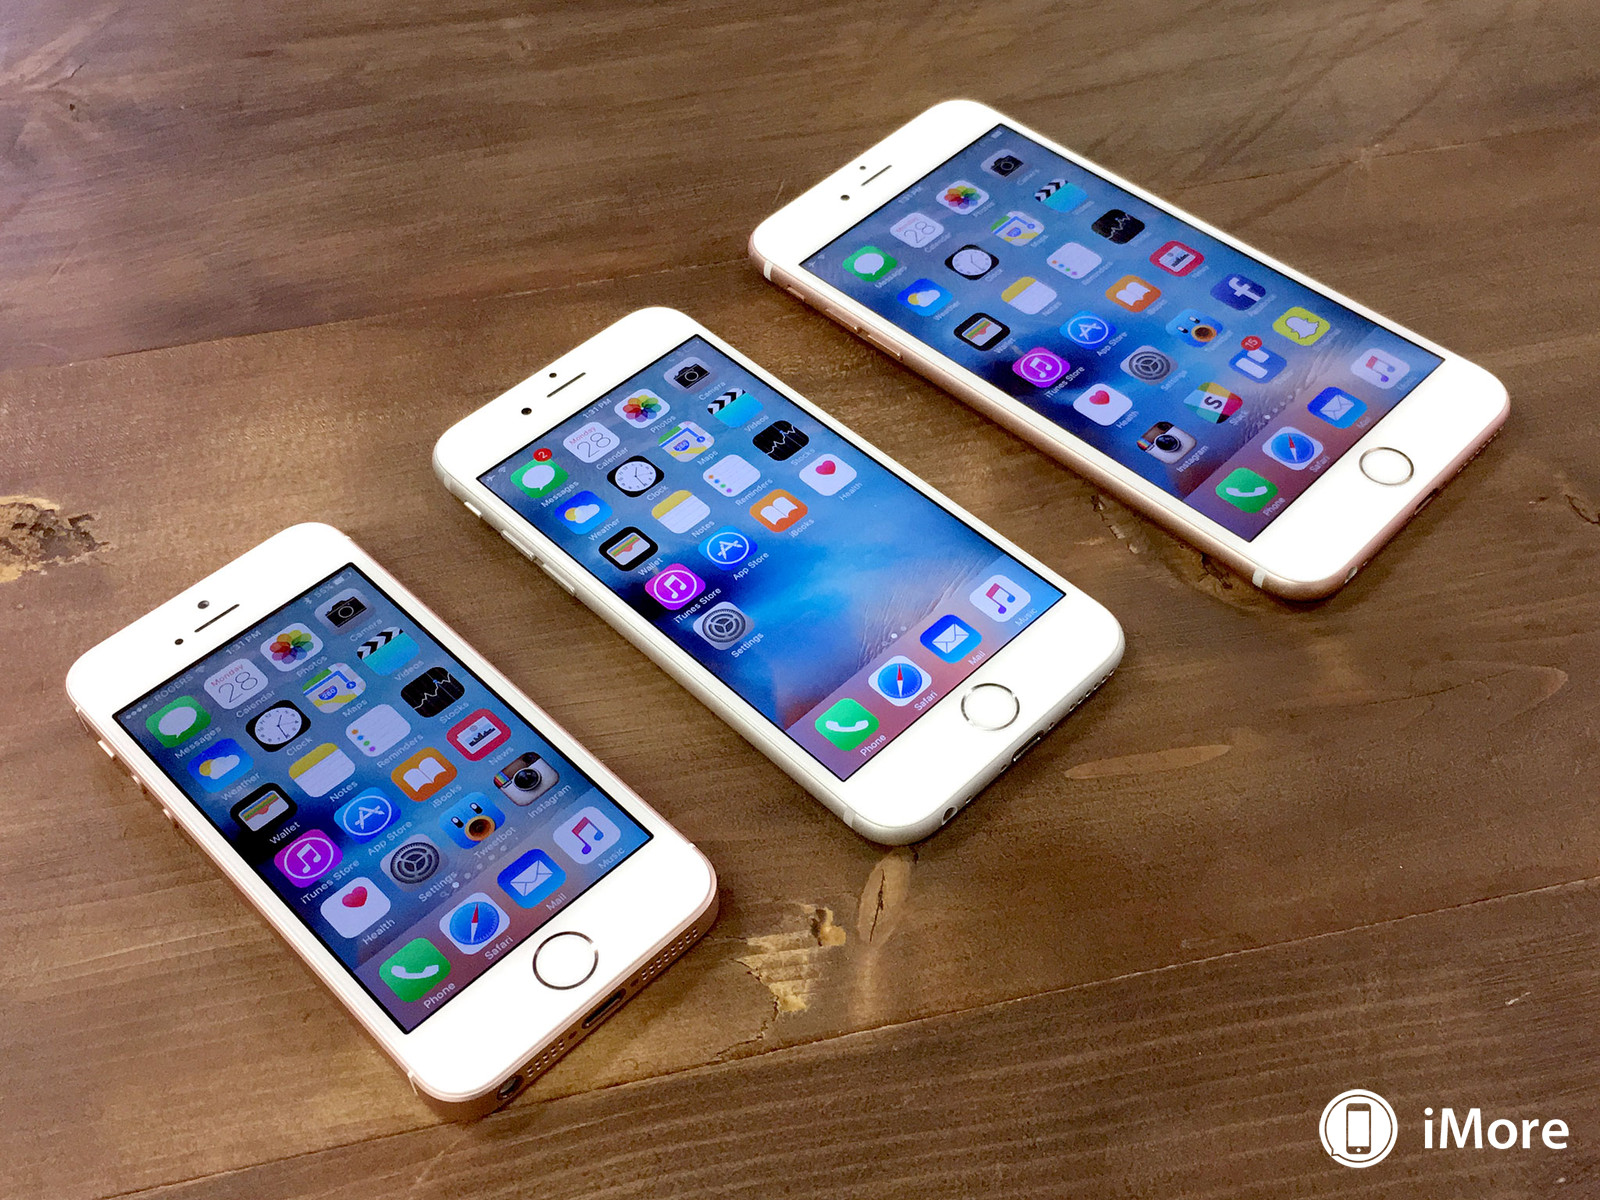smartphone: (64, 521, 721, 1124), (748, 96, 1514, 608), (431, 305, 1128, 848)
